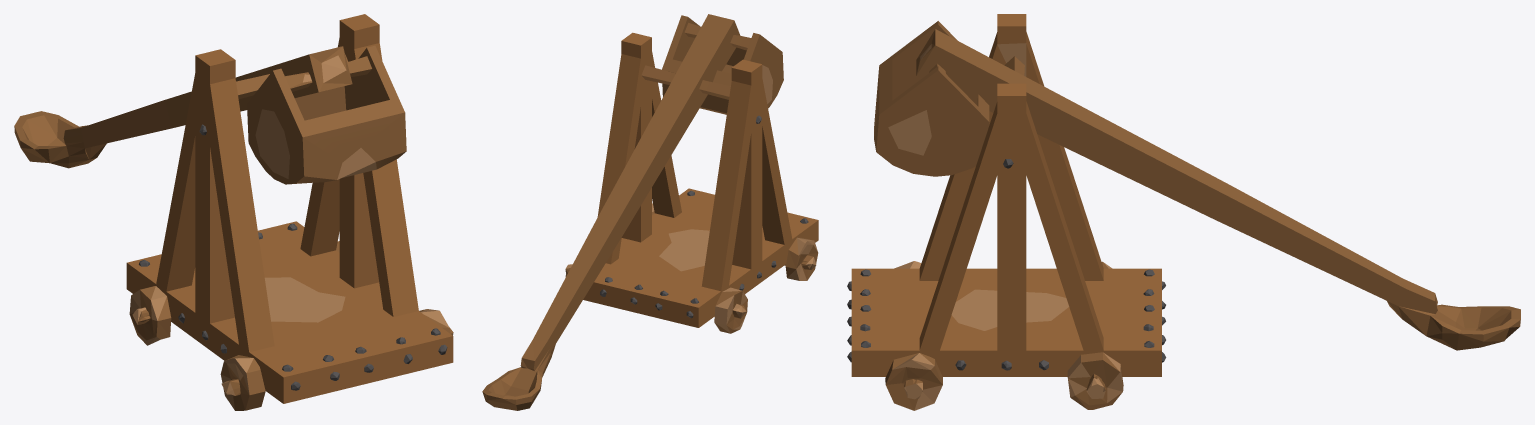
The model's file is LPSWP_Trebuchet01.fbx.
The picture shows the model from 3 angles, left to right: view 1: azimuth 30°, elevation 25°; view 2: azimuth 150°, elevation 25°; view 3: azimuth 270°, elevation 25°; orthographic projection. The views are drawn at different scales.
Parts seen in each view (by area): view 1: LPSWP_Trebuchet01, LPSWP_Trebuchet01_BalanceBasket, LPSWP_Trebuchet01_Handle, LPSWP_Trebuchet01_ForwardWheel, LPSWP_Trebuchet01_BackwardWheel; view 2: LPSWP_Trebuchet01, LPSWP_Trebuchet01_Handle, LPSWP_Trebuchet01_BalanceBasket, LPSWP_Trebuchet01_BackwardWheel, LPSWP_Trebuchet01_ForwardWheel; view 3: LPSWP_Trebuchet01, LPSWP_Trebuchet01_Handle, LPSWP_Trebuchet01_BalanceBasket, LPSWP_Trebuchet01_ForwardWheel, LPSWP_Trebuchet01_BackwardWheel.
Part boxes in pixels (x1,y1,x2,y2): LPSWP_Trebuchet01: (126,14,453,403); LPSWP_Trebuchet01_BalanceBasket: (247,45,406,184); LPSWP_Trebuchet01_Handle: (14,46,352,168); LPSWP_Trebuchet01_ForwardWheel: (220,309,453,410); LPSWP_Trebuchet01_BackwardWheel: (129,241,339,345); LPSWP_Trebuchet01: (583,32,818,327); LPSWP_Trebuchet01_Handle: (482,14,740,410); LPSWP_Trebuchet01_BalanceBasket: (662,15,783,114); LPSWP_Trebuchet01_BackwardWheel: (565,264,747,333); LPSWP_Trebuchet01_ForwardWheel: (652,203,818,280); LPSWP_Trebuchet01: (847,14,1166,376); LPSWP_Trebuchet01_Handle: (916,29,1520,350); LPSWP_Trebuchet01_BalanceBasket: (874,21,989,176); LPSWP_Trebuchet01_ForwardWheel: (885,261,942,410); LPSWP_Trebuchet01_BackwardWheel: (1067,261,1123,409).
Size of the model in its own units: 3.14 by 4.27 by 8.02.
